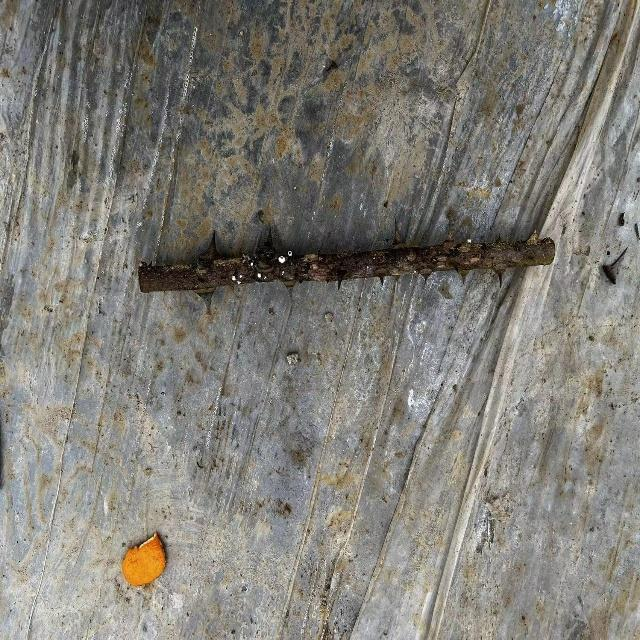branch: (137, 239, 556, 294)
